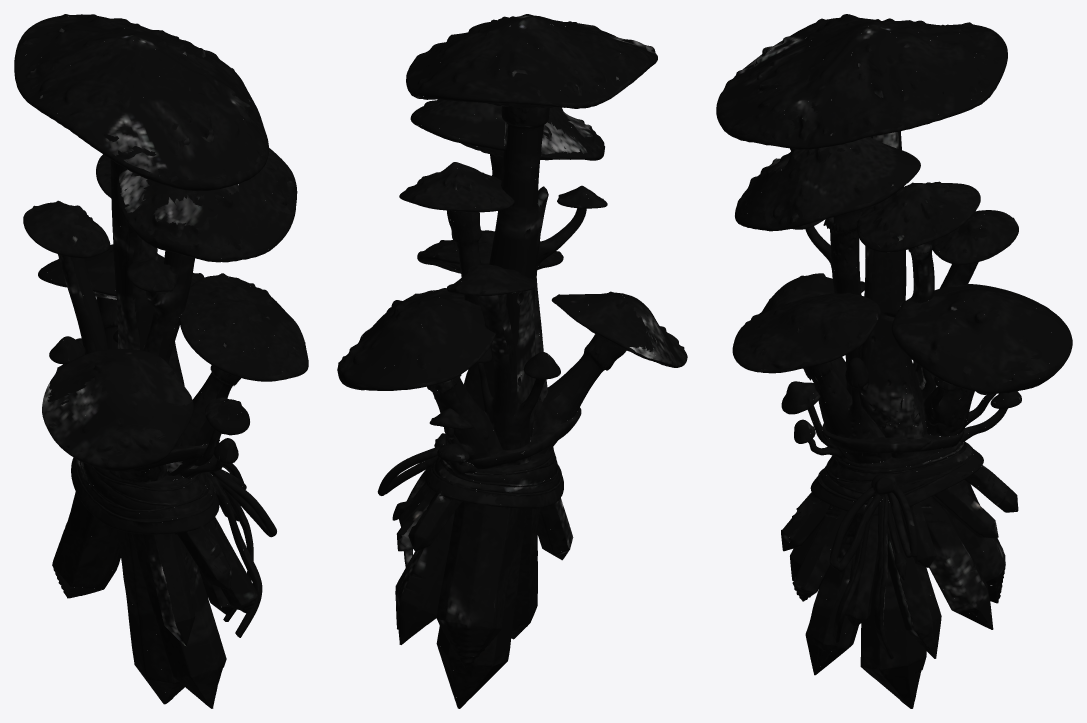
File: mushroom.glb
3 renders of one model, left to right at view 1: azimuth 30°, elevation 25°; view 2: azimuth 150°, elevation 25°; view 3: azimuth 270°, elevation 25°, orthographic. The views are drawn at different scales.
Visible parts, largest first — view 1: low poli; view 2: low poli; view 3: low poli.
Part boxes in pixels (box(x1,y1,x2,y2)): low poli: box(14, 14, 308, 708); low poli: box(337, 14, 687, 708); low poli: box(716, 14, 1072, 708).
Size of the model in its own units: 0.3634 by 0.9783 by 0.4797.
Materials: 1 (1 with a texture image).
